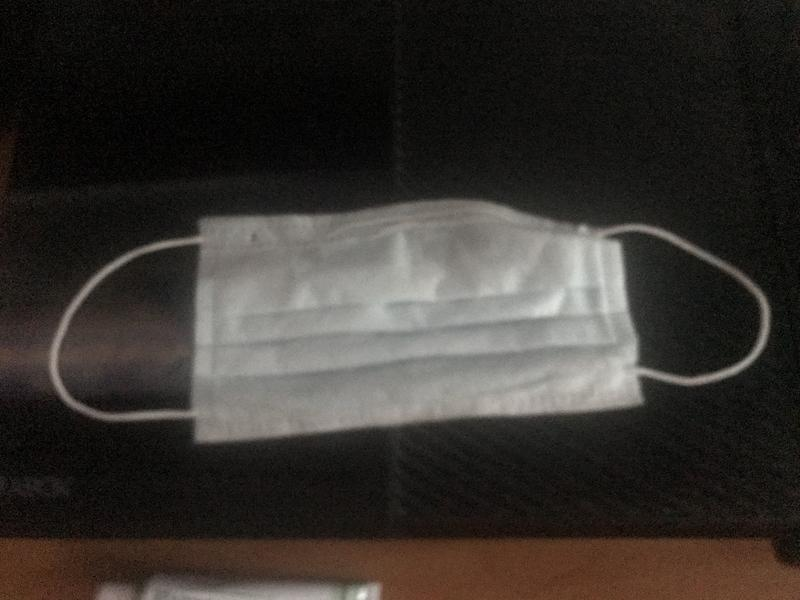medical_mask: (51, 200, 771, 446)
